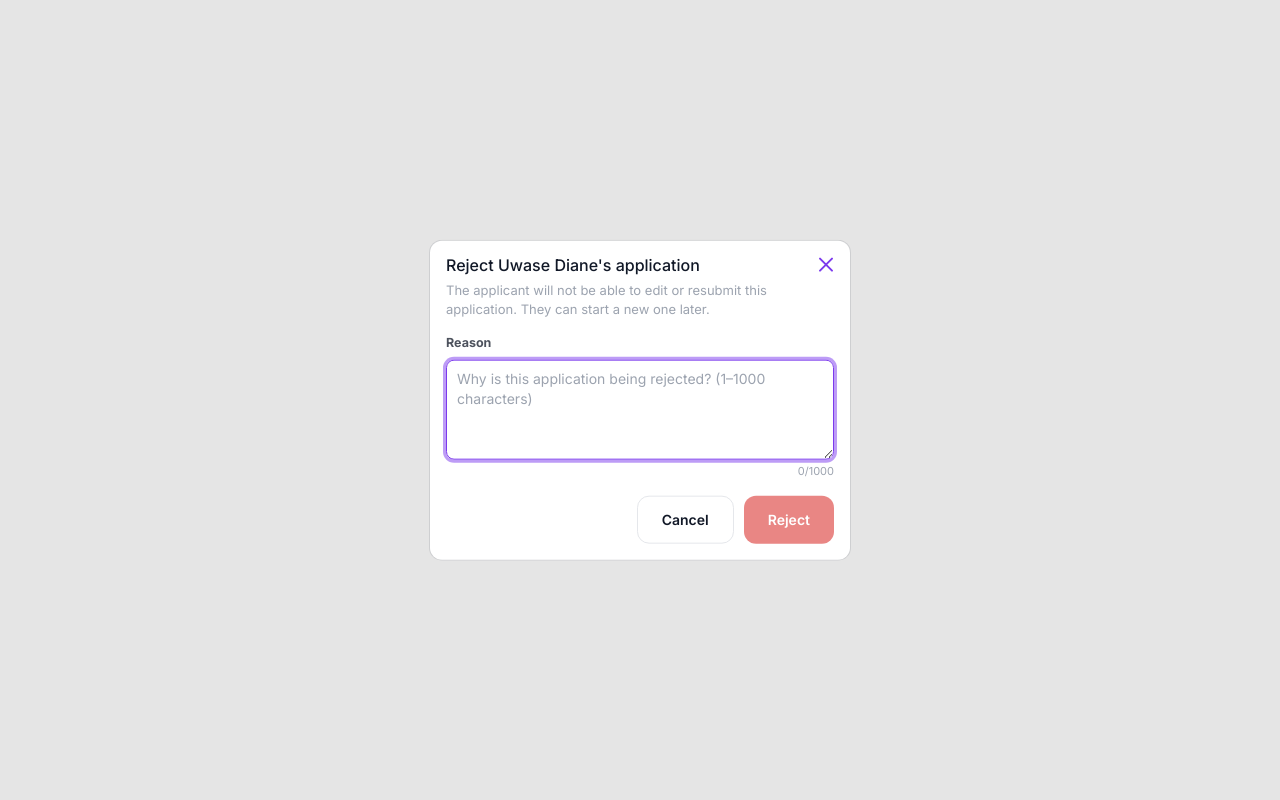
RejectApplicationDialog › disables the Reject button until a reason is entered
Expected: the button "Reject" is disabled, [744, 495, 834, 543]
Type "Missing license documentation" into the text box with placeholder "Why is this application being rejected? (1–1000 characters)". click: x=640, y=410
box: [446, 360, 834, 460]
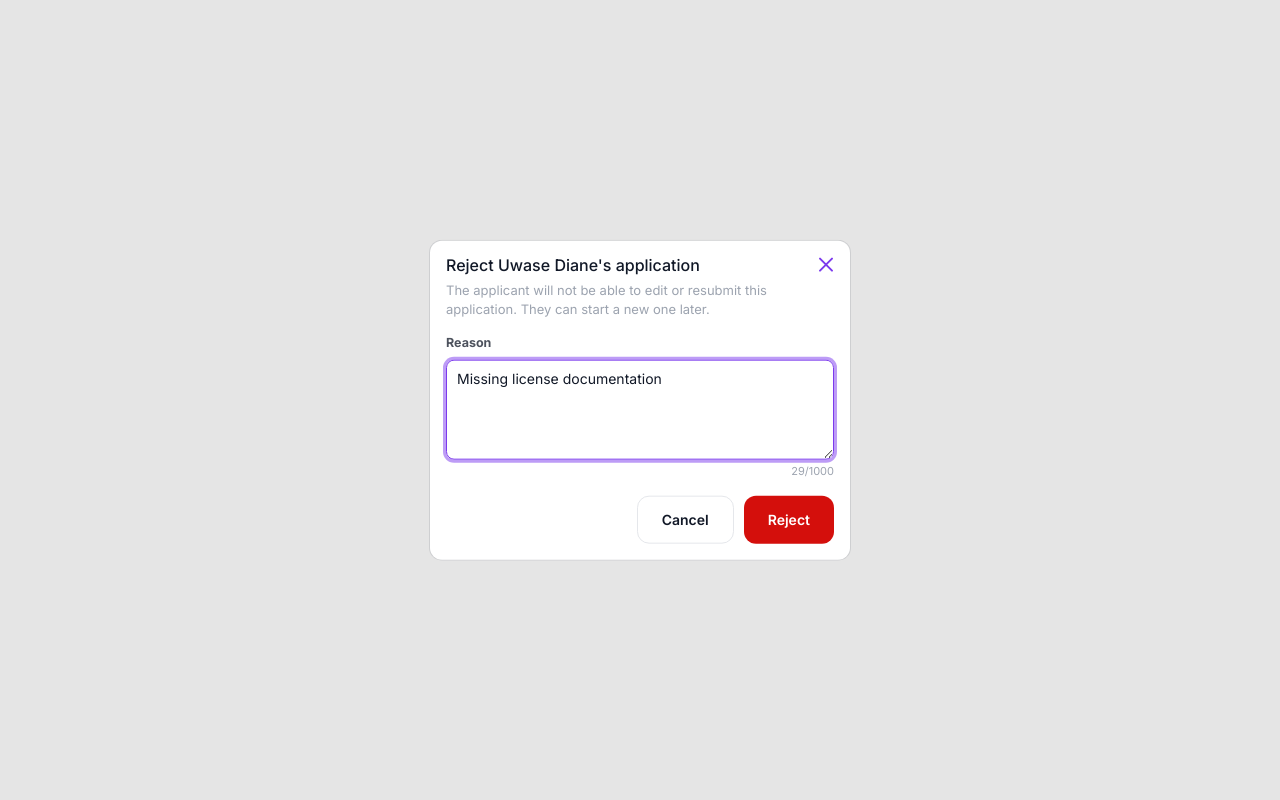
Now the button "Reject" is enabled, box [744, 495, 834, 543]
